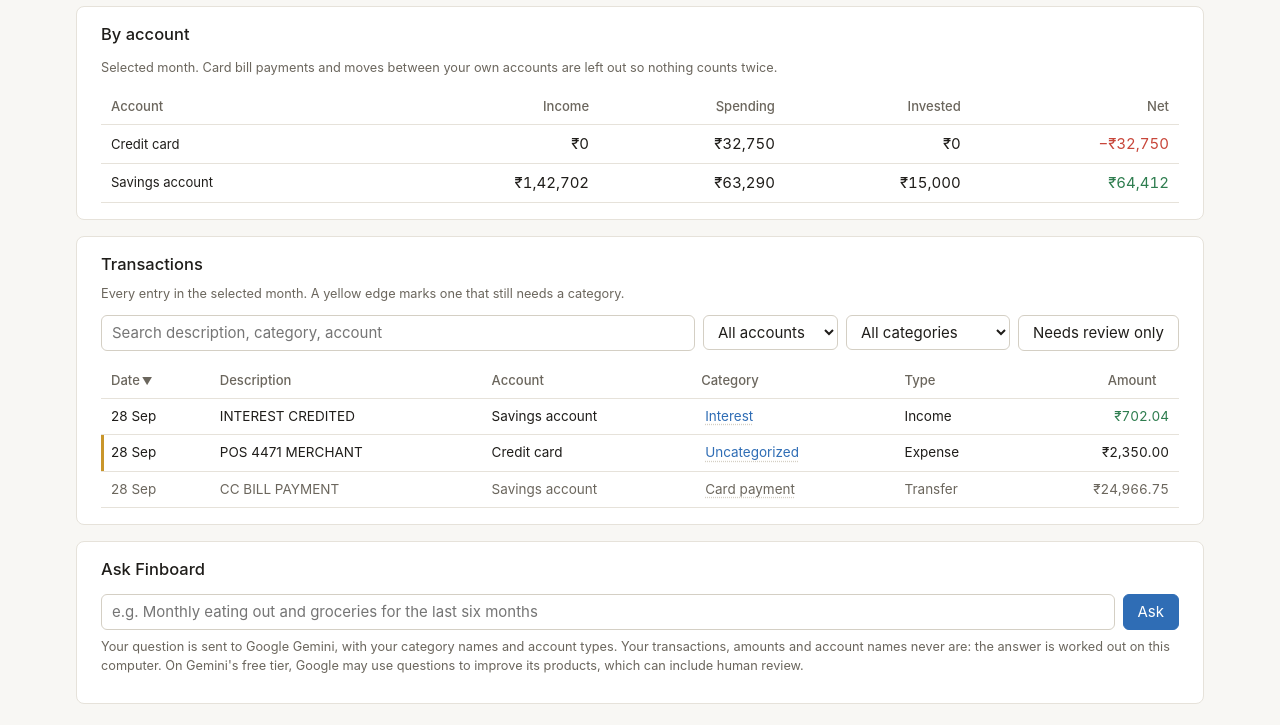
Ask Finboard on the dashboard › says what is sent, answers as a chart, shows the query and pins it
(page scrolled)
Expected: the element "Ask Finboard" shows "Your question is sent to Google Gemini", [76,542,1204,704]
Expected: the element "Ask Finboard" shows "Your transactions, amounts and account names never are", [101,639,1170,673]
Type "Eating out and groceries by month" into the field named "Question".
click(608, 612); type("Eating out and groceries by month")  # box [101,594,1114,630]
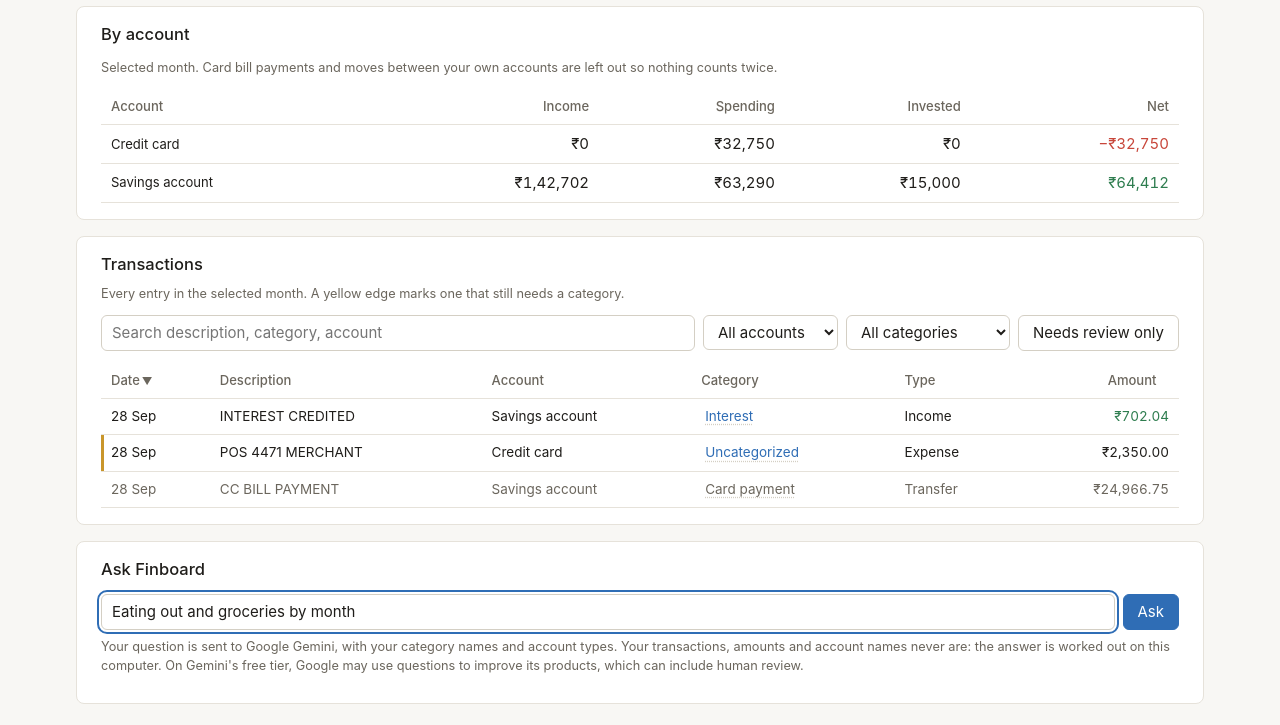
Click the button "Ask".
click(1151, 612)  # box [1122,594,1179,630]
(page scrolled)
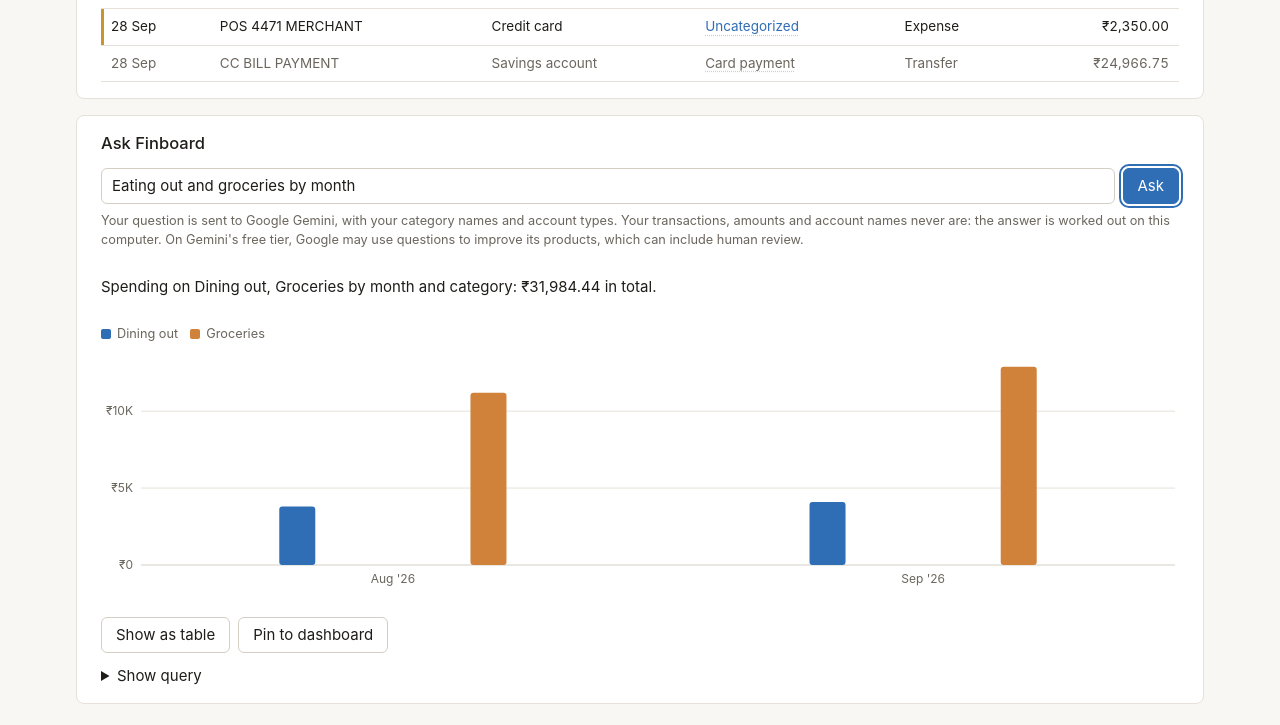
Result: the message shows "₹31,984.44 in total" at [101,277,656,296]
Result: the picture named "Bar chart" is shown at [101,351,1179,591]
Click the button "Show as table".
click(166, 635)  # box [101,617,230,653]
(page scrolled)
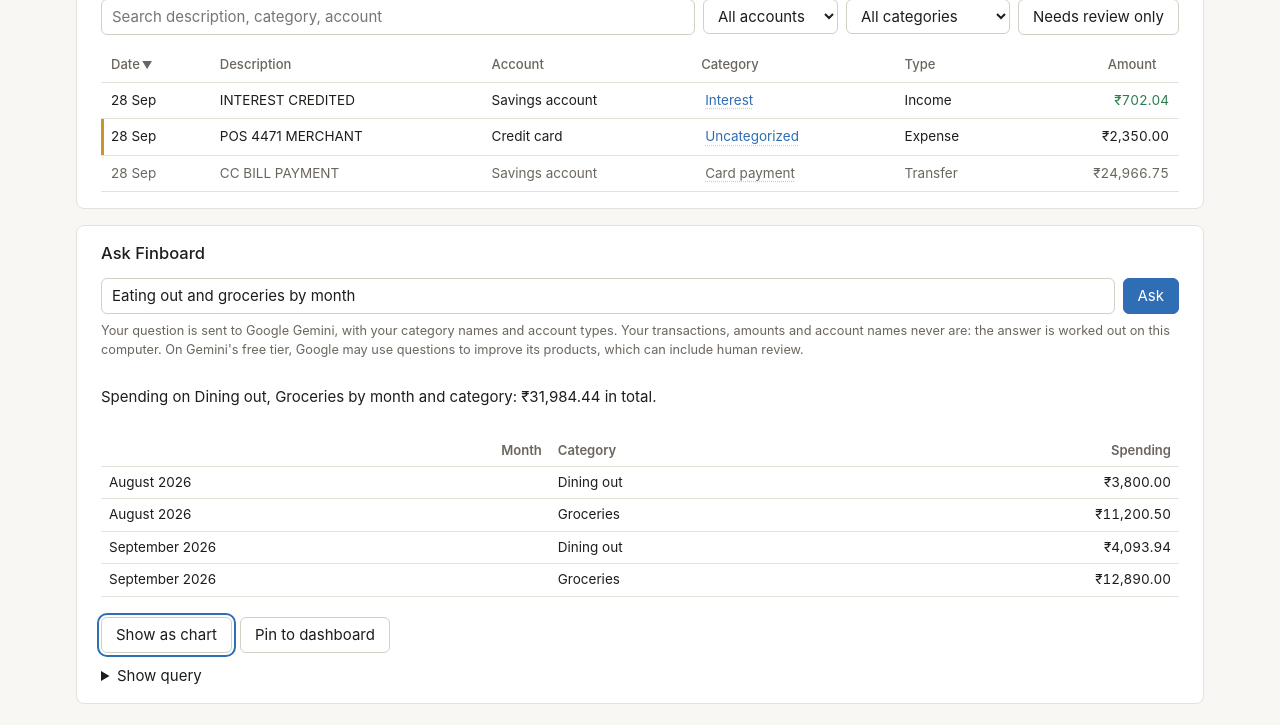
Result: the table that starts with "month" shows "September 2026" at [109,539,216,555]
Result: the table that starts with "month" shows "₹12,890.00" at [1095,572,1171,588]
Click the heading "Show query".
click(159, 675)  # box [117,666,202,685]
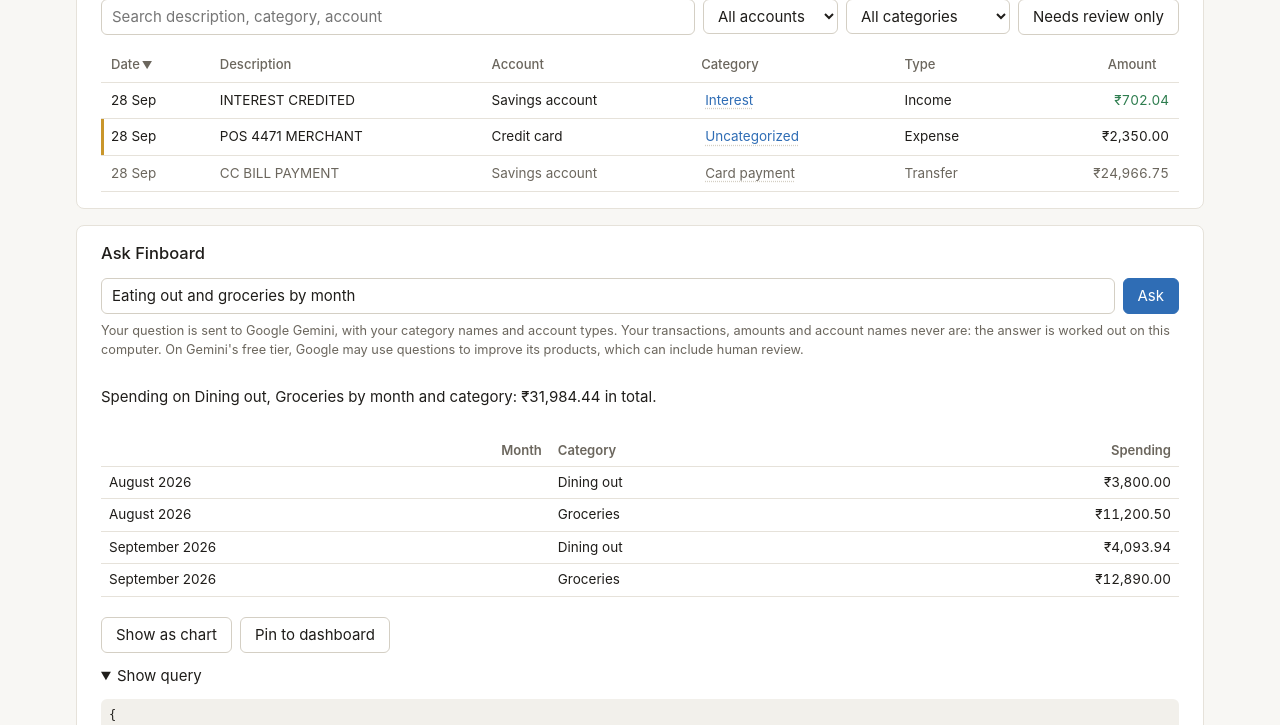
Click the button "Pin to dashboard".
click(315, 635)  # box [240,617,390,653]
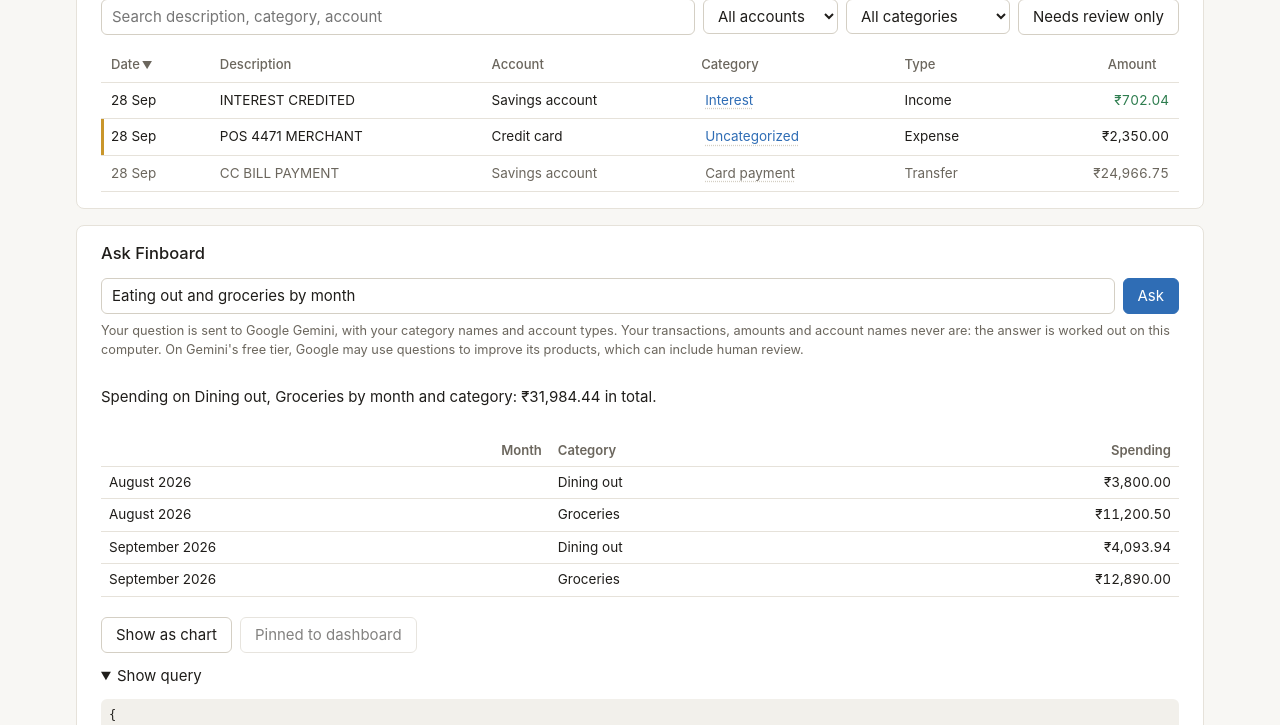
Result: the button "Pinned to dashboard" is disabled at [240,617,417,653]
